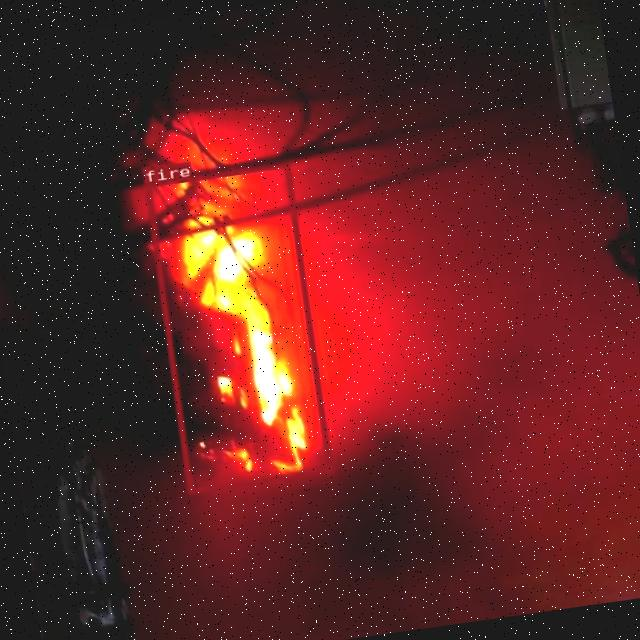fire: (144, 162, 332, 492)
